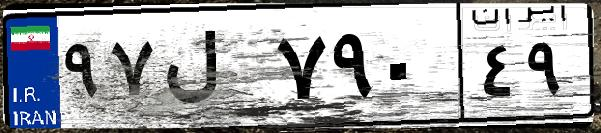0: (385, 28, 445, 110)
4: (475, 38, 525, 113)
7: (270, 28, 330, 110), (110, 28, 158, 98)
9: (330, 28, 385, 110), (57, 26, 110, 100), (525, 38, 570, 115)
ل: (158, 20, 270, 120)
